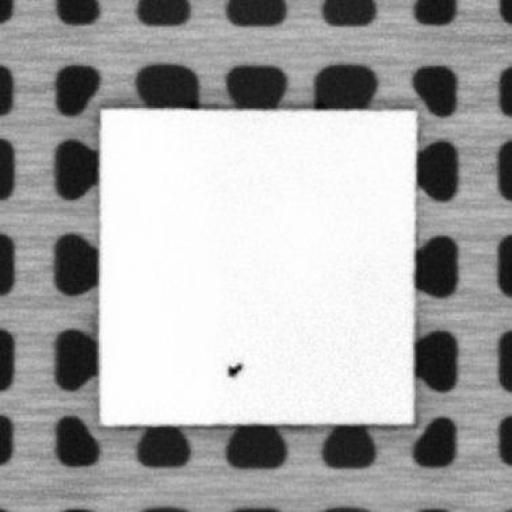DIE_INK: (223, 354, 244, 381)
